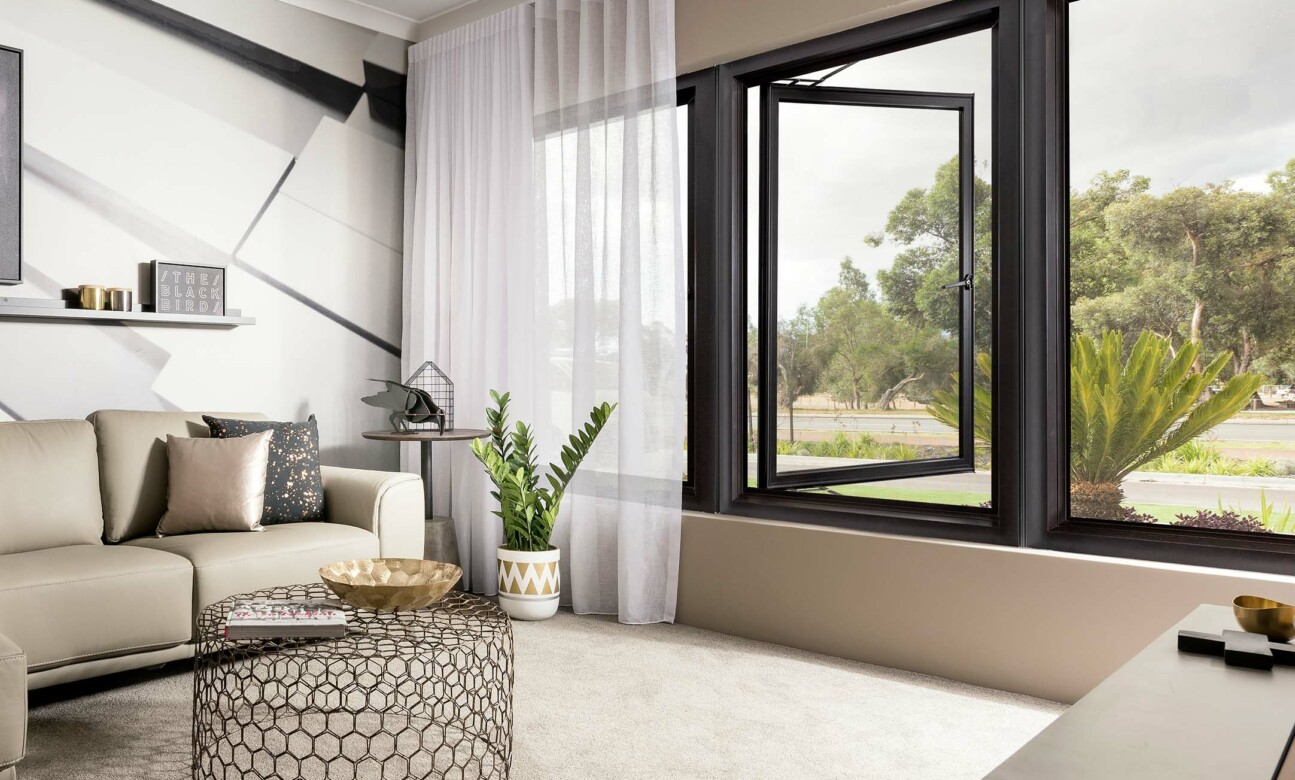Window: (1068, 2, 1295, 522), (746, 84, 999, 493)
